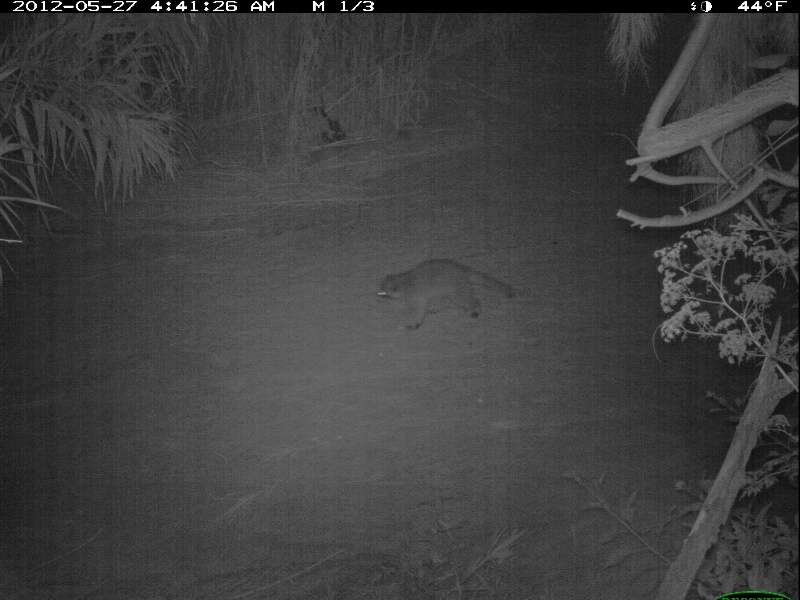raccoon: (376, 259, 520, 333)
